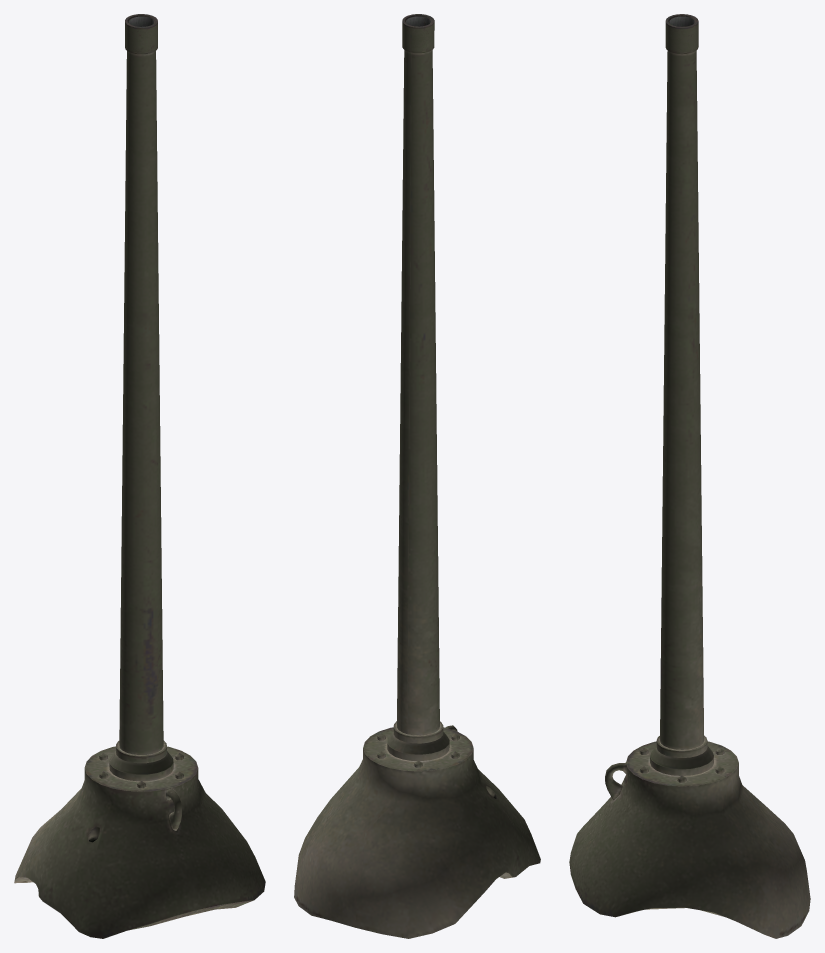
The model's file is Gun_01.glb.
3 renders of one model, left to right at view 1: azimuth 30°, elevation 25°; view 2: azimuth 150°, elevation 25°; view 3: azimuth 270°, elevation 25°, orthographic. The views are drawn at different scales.
Parts seen in each view (by area): view 1: set_0_group_0; view 2: set_0_group_0; view 3: set_0_group_0.
Boxes of the visible parts, x1,y1,x2,y2 form: set_0_group_0: (14,14,265,938); set_0_group_0: (294,14,540,938); set_0_group_0: (569,14,810,938).
Size of the model in its own units: 0.7538 by 3.26 by 0.8093.
1 material, 1 textured.
